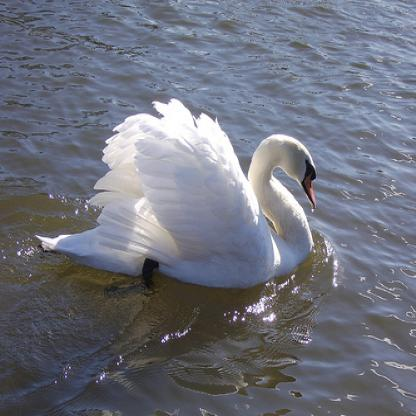bird: (33, 97, 317, 287)
